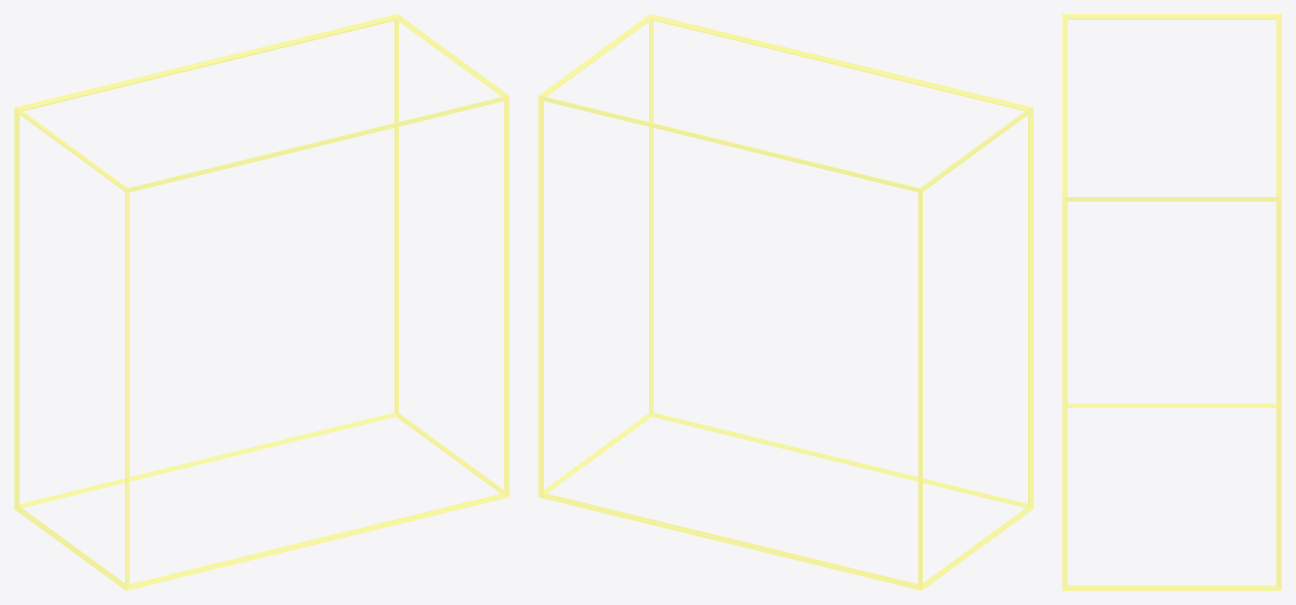
Rendered from Target1Glow.glb.
3 views of the same model, side by side, from view 1: azimuth 30°, elevation 25°; view 2: azimuth 150°, elevation 25°; view 3: azimuth 270°, elevation 25° (orthographic). The views are drawn at different scales.
Parts seen in each view (by area): view 1: glowTarget1; view 2: glowTarget1; view 3: glowTarget1.
Boxes of the visible parts, x1=… form: glowTarget1: x1=14, y1=14, x2=509, y2=590; glowTarget1: x1=538, y1=14, x2=1033, y2=590; glowTarget1: x1=1062, y1=14, x2=1281, y2=590.
Bounding box in the file's own units: 6.41 × 6.41 × 3.23.
